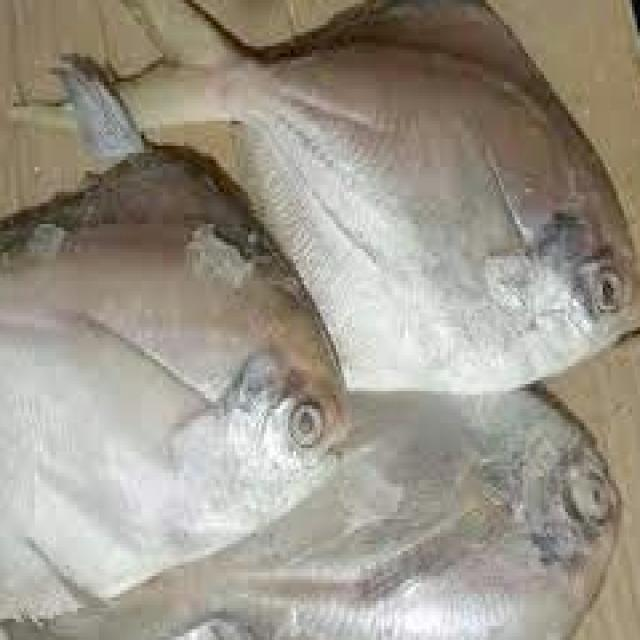pomfred: (25, 0, 639, 393)
